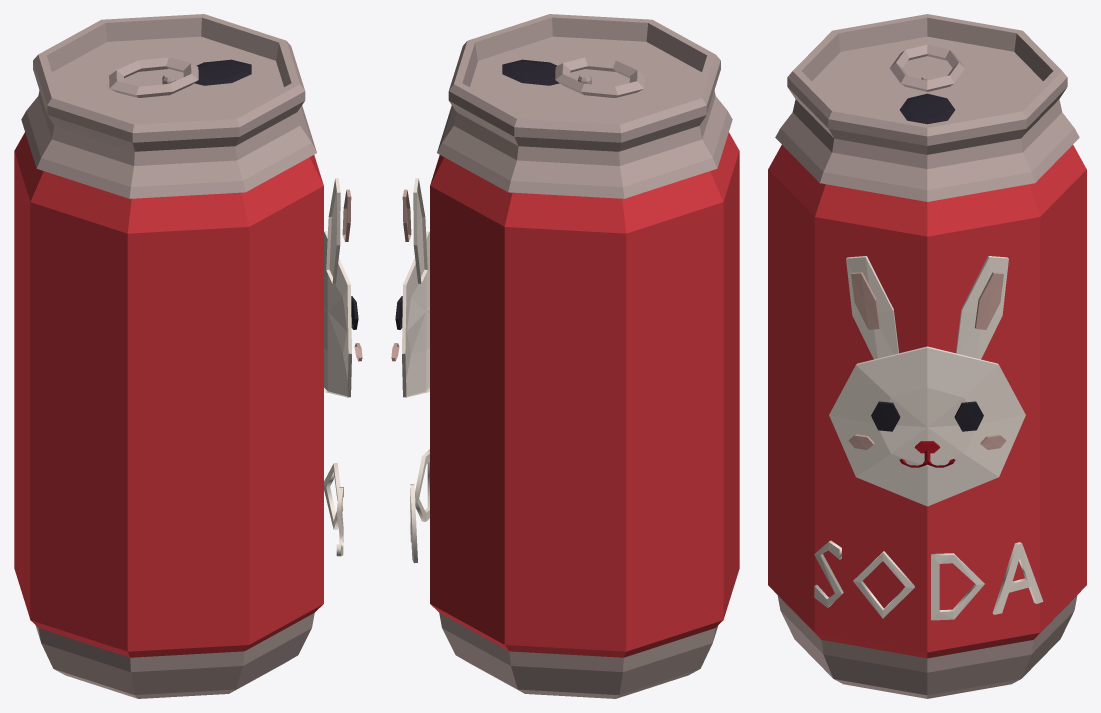
3 renders of one model, left to right at view 1: azimuth 30°, elevation 25°; view 2: azimuth 150°, elevation 25°; view 3: azimuth 270°, elevation 25°, orthographic.
Visible parts, largest first — view 1: body, static_pal_sidewalk, static_pal_picketWhite, static_pal_uiDark; view 2: body, static_pal_sidewalk, static_pal_picketWhite, static_pal_uiDark; view 3: body, static_pal_sidewalk, static_pal_picketWhite, static_pal_infectedSkin, static_pal_uiDark, static_pal_blood.
Part boxes in pixels (left/top/right/bottom): body: left=14, top=132, right=323, bottom=657; static_pal_sidewalk: left=21, top=14, right=316, bottom=698; static_pal_picketWhite: left=324, top=178, right=351, bottom=556; static_pal_uiDark: left=194, top=59, right=358, bottom=329; body: left=430, top=132, right=739, bottom=657; static_pal_sidewalk: left=437, top=14, right=732, bottom=698; static_pal_picketWhite: left=402, top=178, right=429, bottom=563; static_pal_uiDark: left=395, top=59, right=559, bottom=329; body: left=768, top=145, right=1086, bottom=658; static_pal_sidewalk: left=775, top=14, right=1079, bottom=698; static_pal_picketWhite: left=814, top=256, right=1043, bottom=620; static_pal_infectedSkin: left=848, top=272, right=1006, bottom=449; static_pal_uiDark: left=871, top=93, right=983, bottom=431; static_pal_blood: left=899, top=441, right=955, bottom=467.
Size of the model in its own units: 0.1014 by 0.1823 by 0.091.
